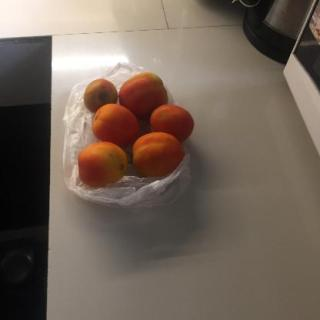Tomat: (74, 67, 201, 200)
